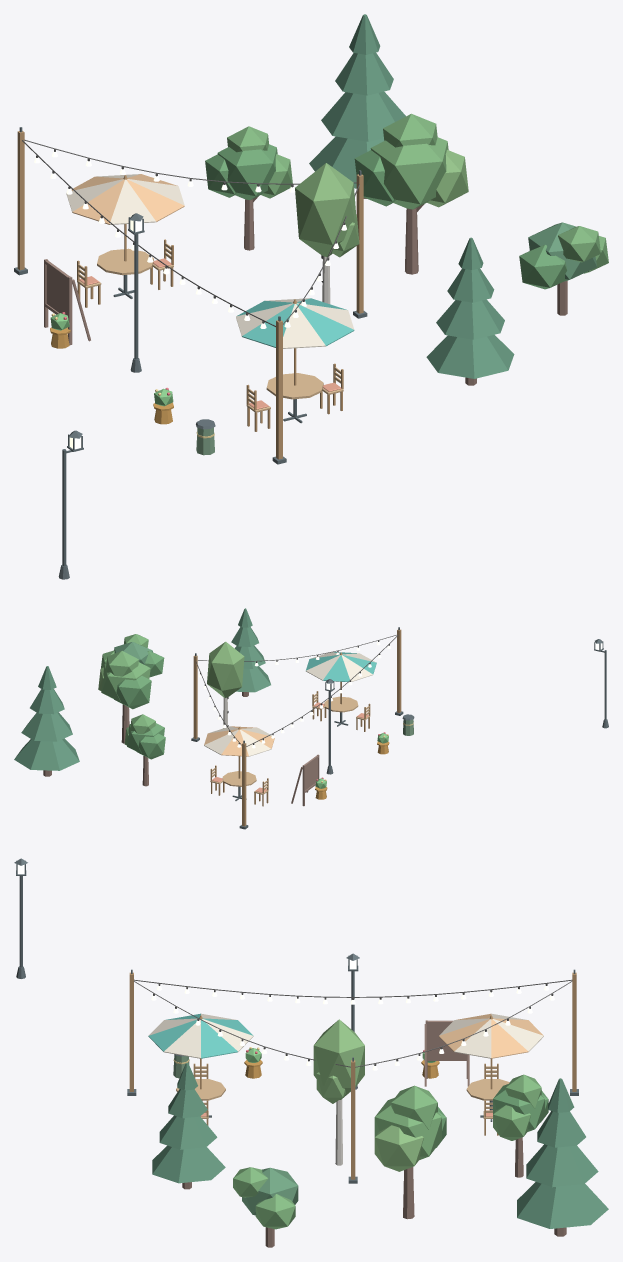
Rendered from plaza.glb.
3 views of the same model, one above another, from view 1: azimuth 30°, elevation 25°; view 2: azimuth 150°, elevation 25°; view 3: azimuth 270°, elevation 25° (orthographic). The views are drawn at different scales.
Visible parts, largest first — view 1: plaza_pino, plaza_hoja_media, plaza_hoja_clara, plaza_hoja_oscura, plaza_madera, plaza_tela_crema, plaza_metal_oscuro, plaza_madera_clara, plaza_tela_naranja, plaza_tela_turquesa, plaza_tronco, plaza_pizarra_marco (+3 smaller); view 2: plaza_pino, plaza_hoja_oscura, plaza_hoja_media, plaza_madera, plaza_tela_crema, plaza_hoja_clara, plaza_metal_oscuro, plaza_madera_clara, plaza_tela_turquesa, plaza_tela_naranja, plaza_pizarra_marco, plaza_cable (+3 smaller); view 3: plaza_pino, plaza_hoja_media, plaza_hoja_clara, plaza_tela_crema, plaza_madera, plaza_tela_turquesa, plaza_tela_naranja, plaza_cable, plaza_madera_clara, plaza_tronco, plaza_pizarra_marco, plaza_metal_oscuro (+3 smaller).
Part boxes in pixels (x1,y1,x2,y2): plaza_pino: [309, 14, 514, 378]; plaza_hoja_media: [227, 113, 608, 273]; plaza_hoja_clara: [295, 149, 468, 257]; plaza_hoja_oscura: [205, 144, 567, 289]; plaza_madera: [17, 131, 363, 459]; plaza_tela_crema: [66, 174, 354, 348]; plaza_metal_oscuro: [14, 127, 367, 579]; plaza_madera_clara: [77, 243, 343, 412]; plaza_tela_naranja: [71, 174, 184, 224]; plaza_tela_turquesa: [237, 298, 354, 347]; plaza_tronco: [244, 196, 567, 385]; plaza_pizarra_marco: [44, 259, 90, 345]; plaza_pino: [14, 608, 270, 770]; plaza_hoja_oscura: [114, 651, 165, 759]; plaza_hoja_media: [101, 634, 155, 745]; plaza_madera: [193, 629, 401, 826]; plaza_tela_crema: [204, 652, 375, 756]; plaza_hoja_clara: [98, 641, 244, 697]; plaza_metal_oscuro: [191, 627, 608, 829]; plaza_madera_clara: [210, 693, 370, 794]; plaza_tela_turquesa: [306, 652, 376, 681]; plaza_tela_naranja: [204, 726, 274, 756]; plaza_pizarra_marco: [291, 754, 319, 806]; plaza_cable: [196, 635, 398, 746]; plaza_pino: [152, 1063, 608, 1228]; plaza_hoja_media: [233, 1074, 541, 1229]; plaza_hoja_clara: [313, 1019, 423, 1171]; plaza_tela_crema: [148, 1013, 543, 1058]; plaza_madera: [129, 972, 576, 1179]; plaza_tela_turquesa: [148, 1013, 253, 1058]; plaza_tela_naranja: [439, 1013, 543, 1058]; plaza_cable: [133, 979, 572, 1067]; plaza_madera_clara: [176, 1066, 509, 1118]; plaza_tronco: [182, 1137, 566, 1247]; plaza_pizarra_marco: [424, 1020, 469, 1086]; plaza_metal_oscuro: [14, 858, 578, 1183].
Bounding box in the file's own units: 24.84 × 6.2 × 21.51.
